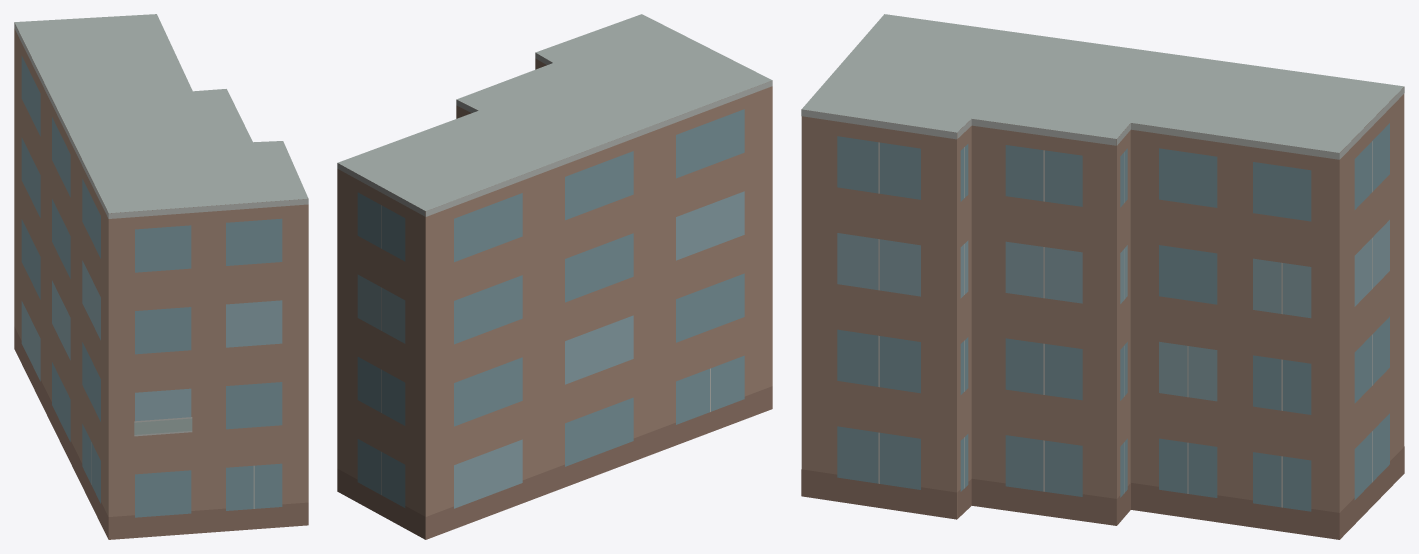
Rendered from survey-upis-32614281.glb.
3 views of the same model, side by side, from view 1: azimuth 30°, elevation 25°; view 2: azimuth 150°, elevation 25°; view 3: azimuth 270°, elevation 25° (orthographic). The views are drawn at different scales.
Parts seen in each view (by area): view 1: survey-upis-32614281.tmp; view 2: survey-upis-32614281.tmp; view 3: survey-upis-32614281.tmp.
Part boxes in pixels (bbox=[...]): survey-upis-32614281.tmp: bbox=[14, 14, 308, 539]; survey-upis-32614281.tmp: bbox=[337, 14, 772, 539]; survey-upis-32614281.tmp: bbox=[801, 14, 1404, 539].
Bounding box in the file's own units: 10.64 × 13.8 × 19.5.
